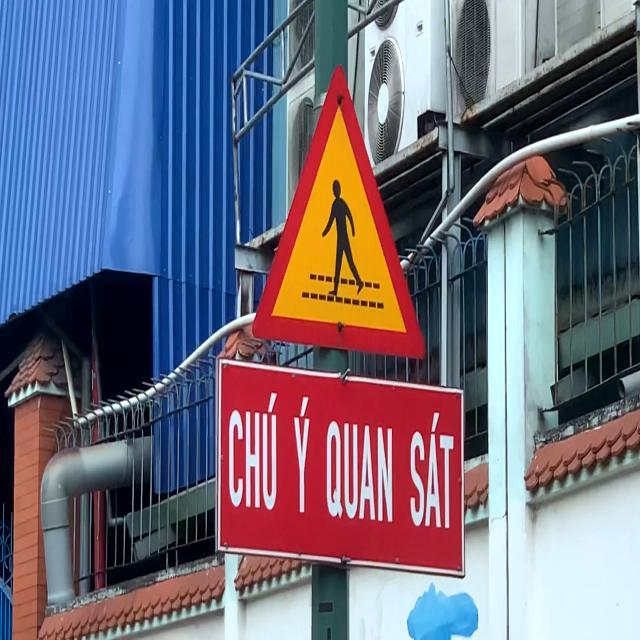Nguoi di bo cat ngang: (251, 61, 427, 362)
